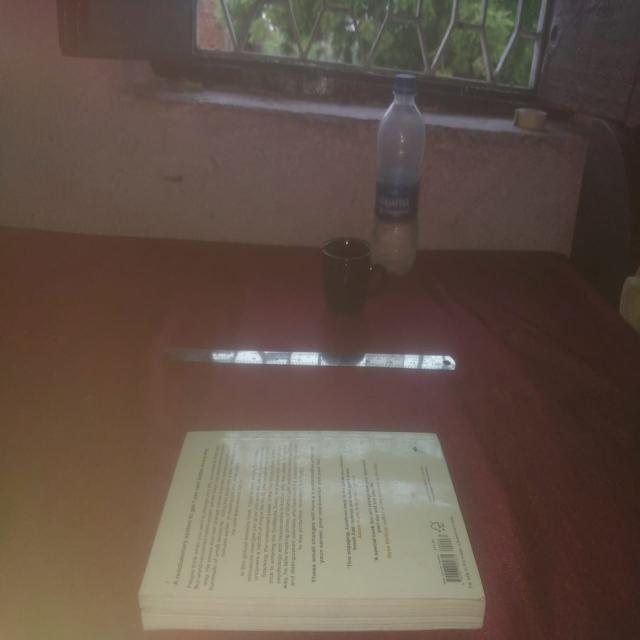Book: (140, 424, 501, 635)
Bottle: (373, 70, 430, 276)
Cup: (312, 236, 389, 309)
scale: (159, 340, 474, 379)
